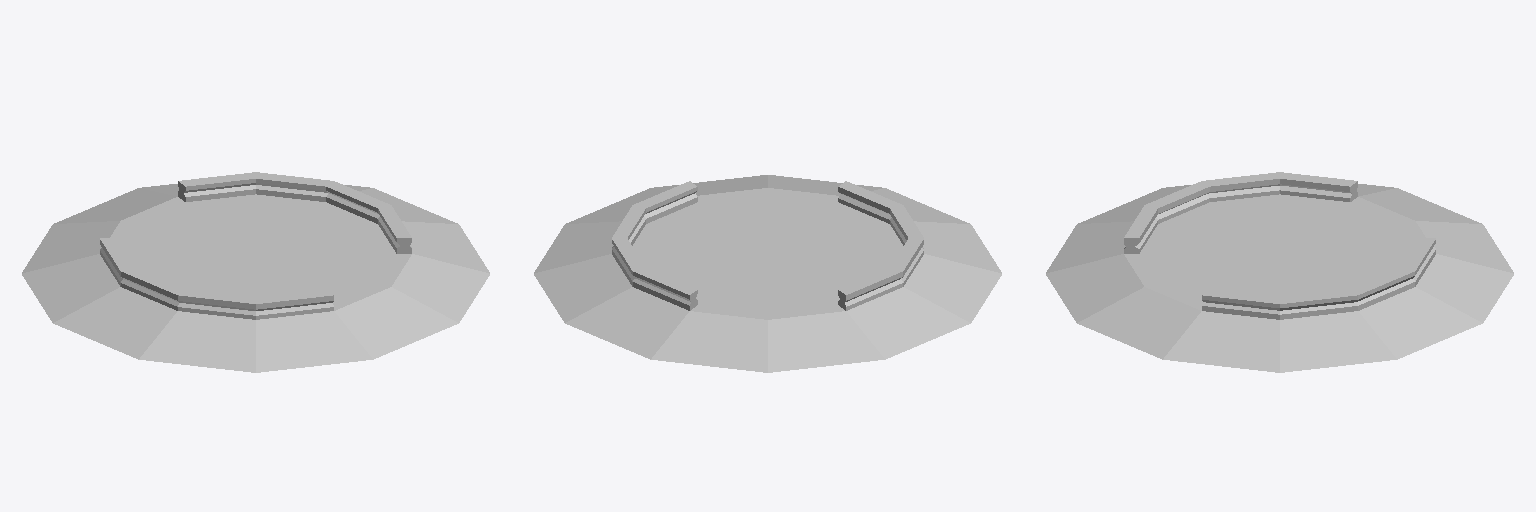
The model's file is RM2018_BattleField_Bunker 1.obj.
The picture shows the model from 3 angles: view 1: azimuth 30°, elevation 25°; view 2: azimuth 150°, elevation 25°; view 3: azimuth 270°, elevation 25°; orthographic projection.
Parts seen in each view (by area): view 1: pCylinder3; view 2: pCylinder3; view 3: pCylinder3.
Part boxes in pixels (x1,y1,x2,y2): pCylinder3: (22,172,489,372); pCylinder3: (534,175,1001,372); pCylinder3: (1046,172,1513,372).
Bounding box in the file's own units: 2.89 × 0.2421 × 2.89.